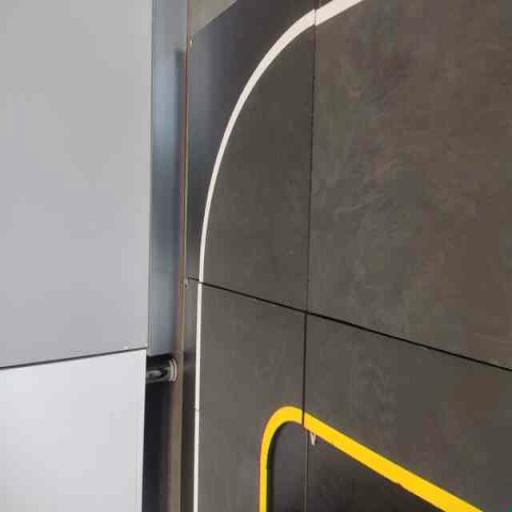left: (190, 2, 318, 480)
